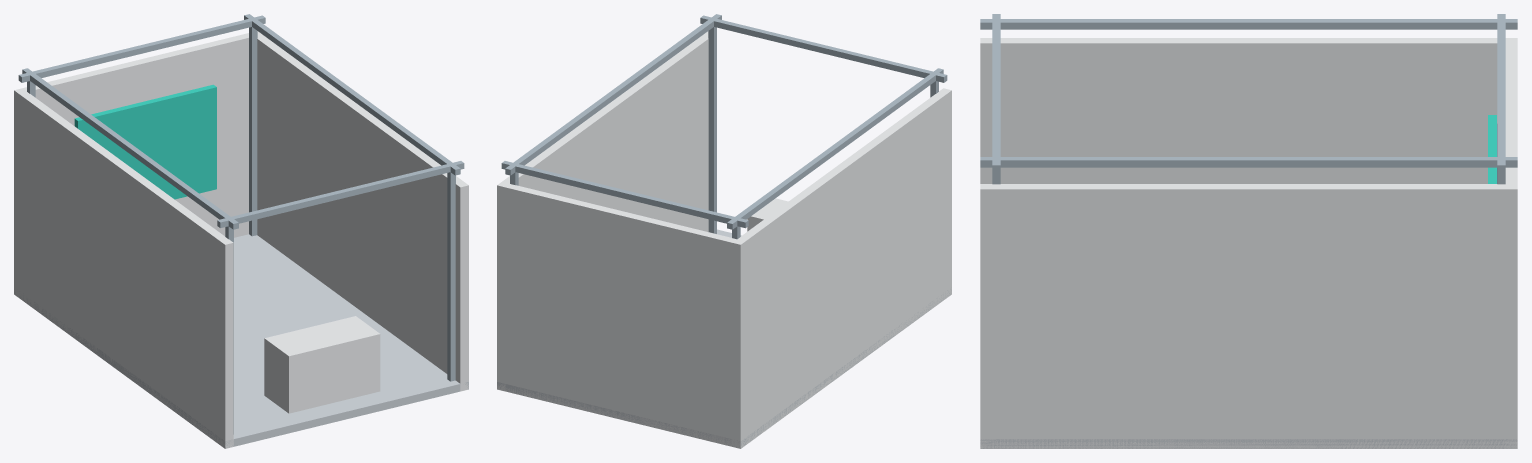
The picture shows the model from 3 angles, left to right: view 1: azimuth 30°, elevation 25°; view 2: azimuth 150°, elevation 25°; view 3: azimuth 270°, elevation 25°; orthographic projection. The views are drawn at different scales.
Visible parts, largest first — view 1: Exhibition Booth Concept; view 2: Exhibition Booth Concept; view 3: Exhibition Booth Concept.
Boxes of the visible parts, x1,y1,x2,y2 form: Exhibition Booth Concept: (14, 14, 468, 448); Exhibition Booth Concept: (497, 14, 951, 448); Exhibition Booth Concept: (980, 14, 1517, 448).
Size of the model in its own units: 4 by 3.49 by 6.
